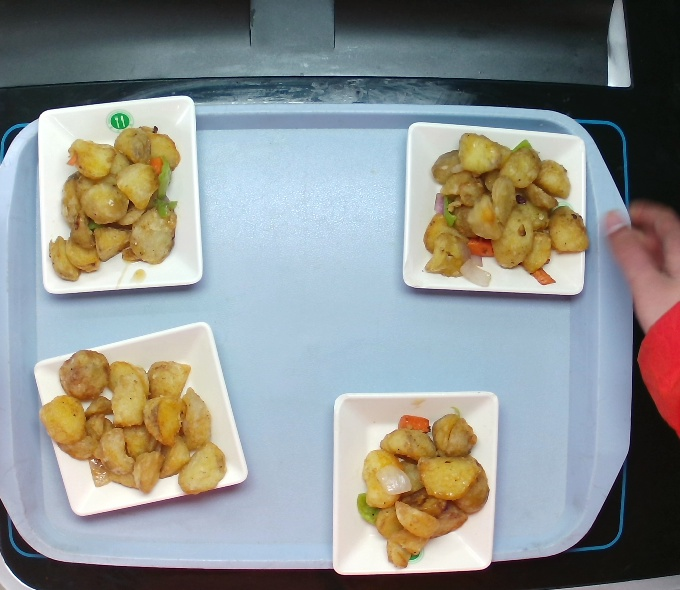wcq-TuDouZai: (47, 341, 232, 499), (413, 130, 584, 295), (46, 125, 188, 280), (354, 409, 490, 559)
